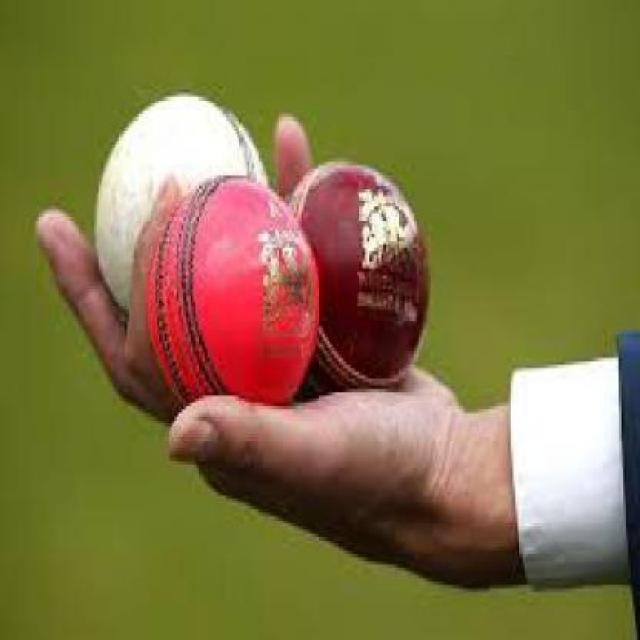ball: (132, 157, 322, 407)
